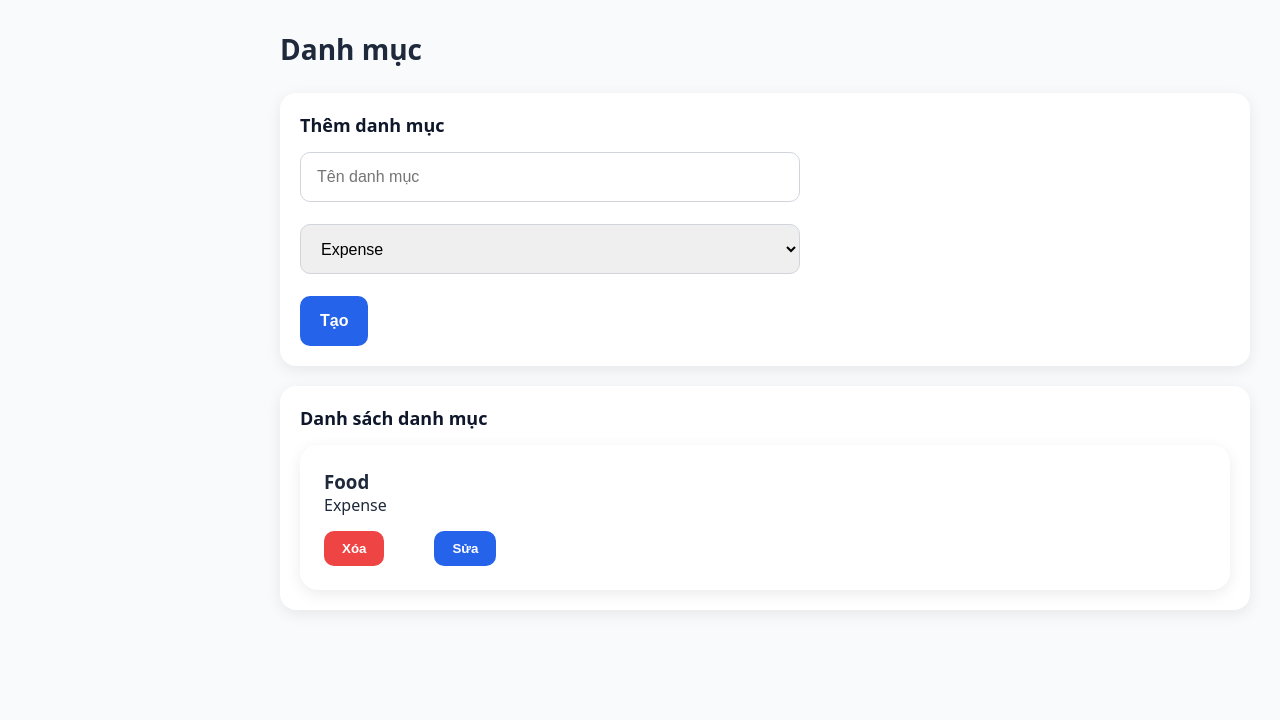
Categories page › updates a category through modal
The width and height of the screenshot is (1280, 720).
Click the button "Sửa". click: click(466, 548)
box: [434,531,496,566]
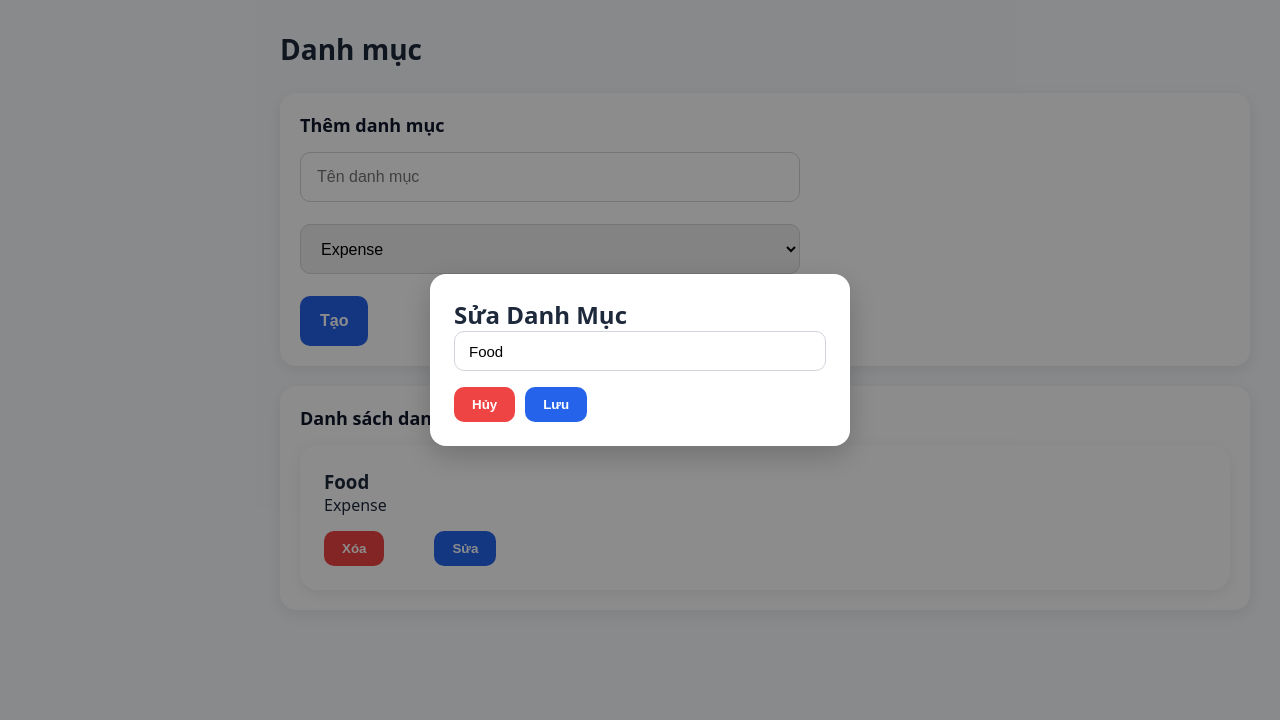
Replace the text in the field with placeholder "Tên danh mục" with "Food Updated". click: (640, 351)
box: [454,331,826,371]
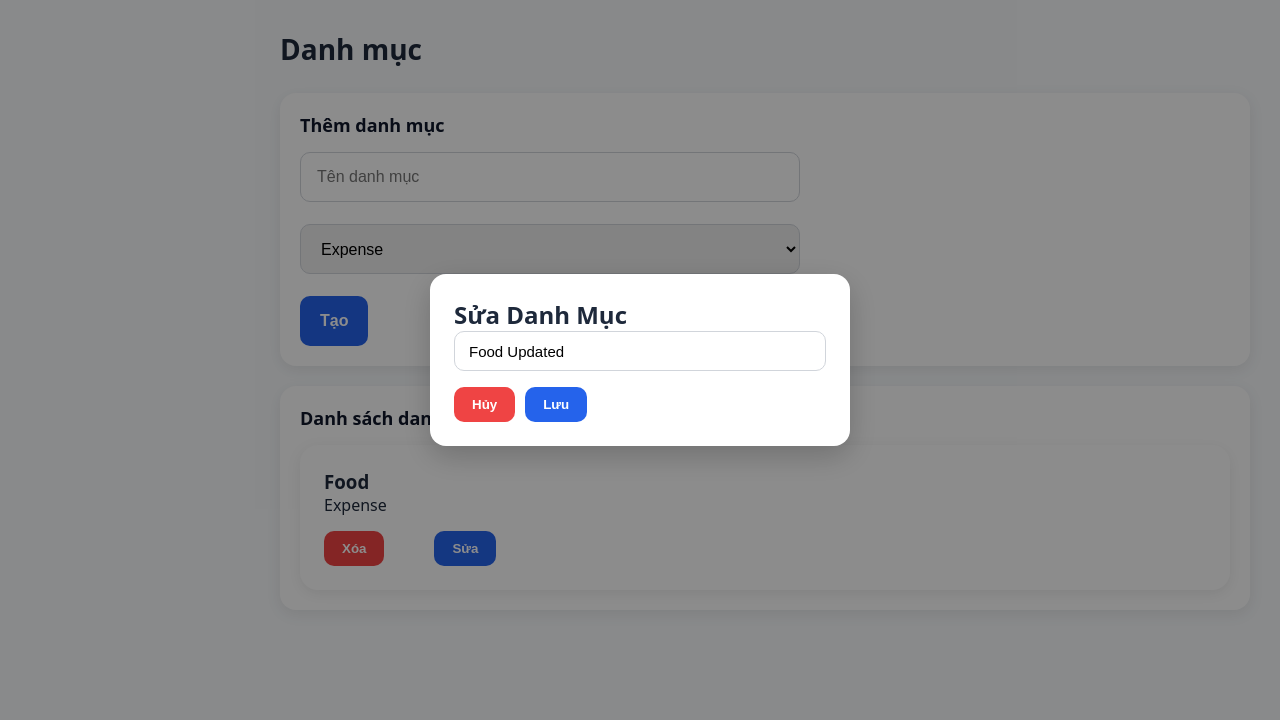
Click the button "Lưu". click: click(556, 404)
box: [525,387,587,422]
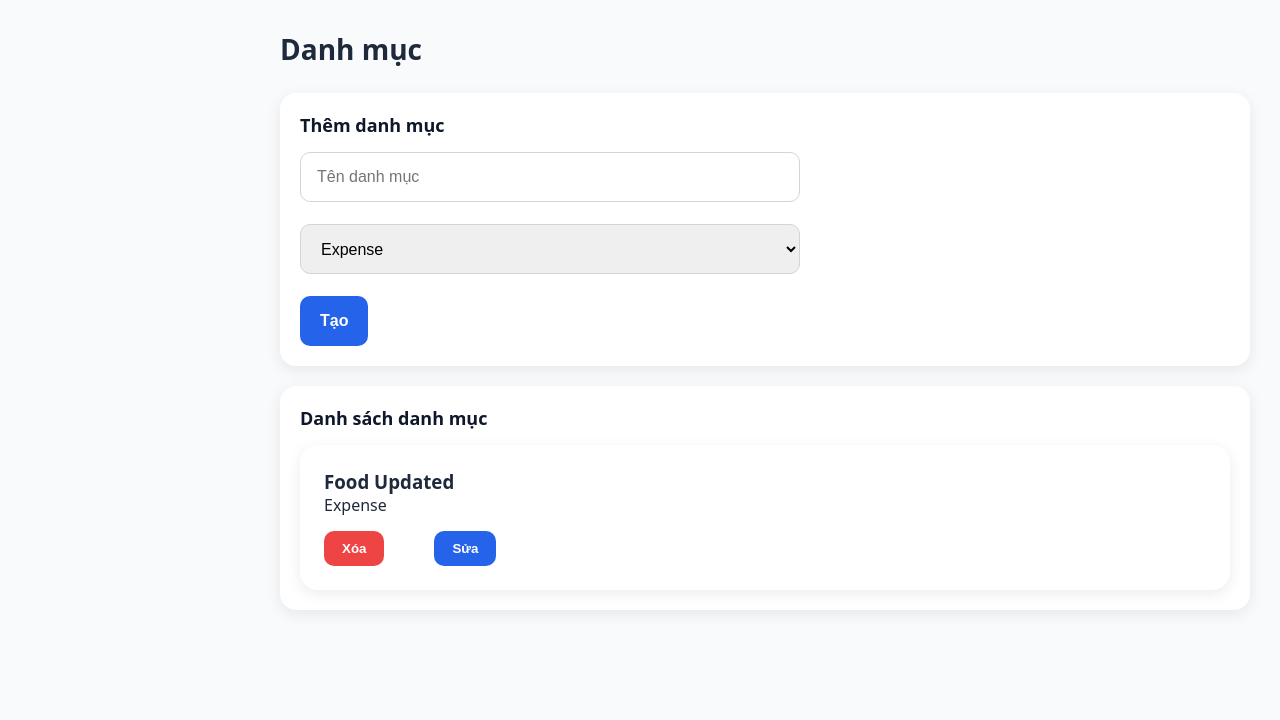
Expected: the heading "Food Updated" is shown, [324,469,454,494]
